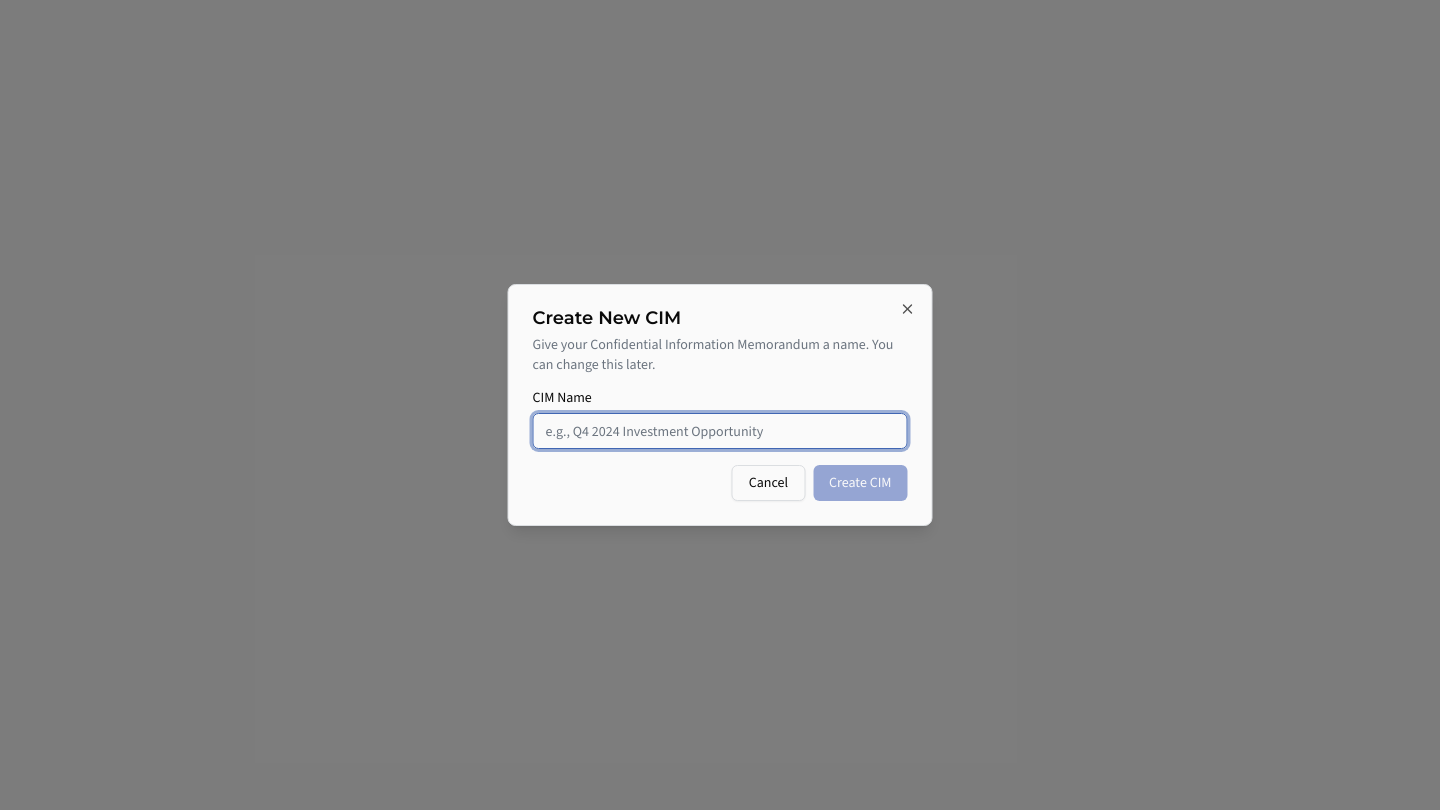
Test case: CreateCIMDialog › validation › should clear error when user starts typing
This screenshot has width=1440, height=810.
Type "AB" into the field labelled "CIM Name" at (720, 431), box [532,413,908,449]
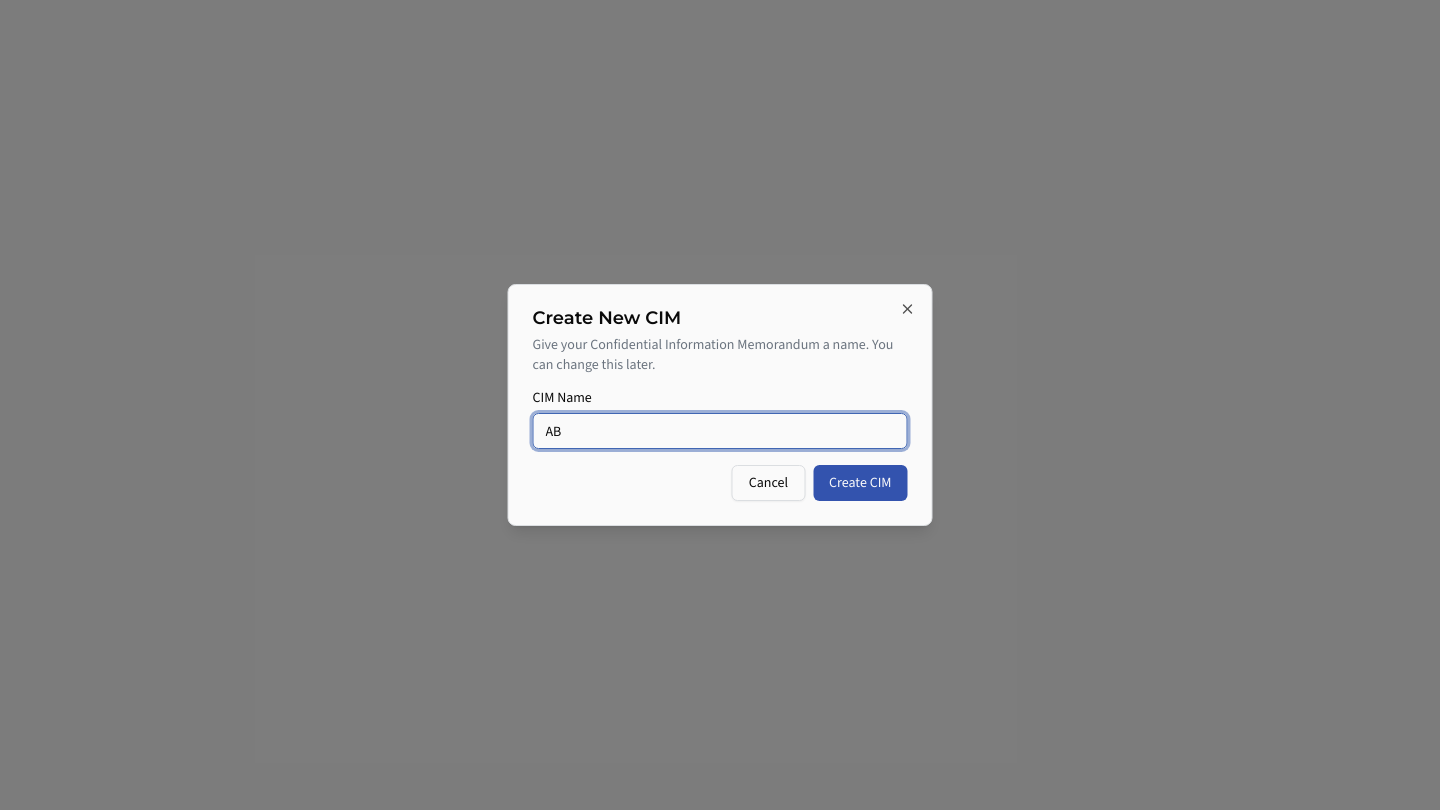
Click the button "Create CIM" at (860, 483), box [813,465,908,501]
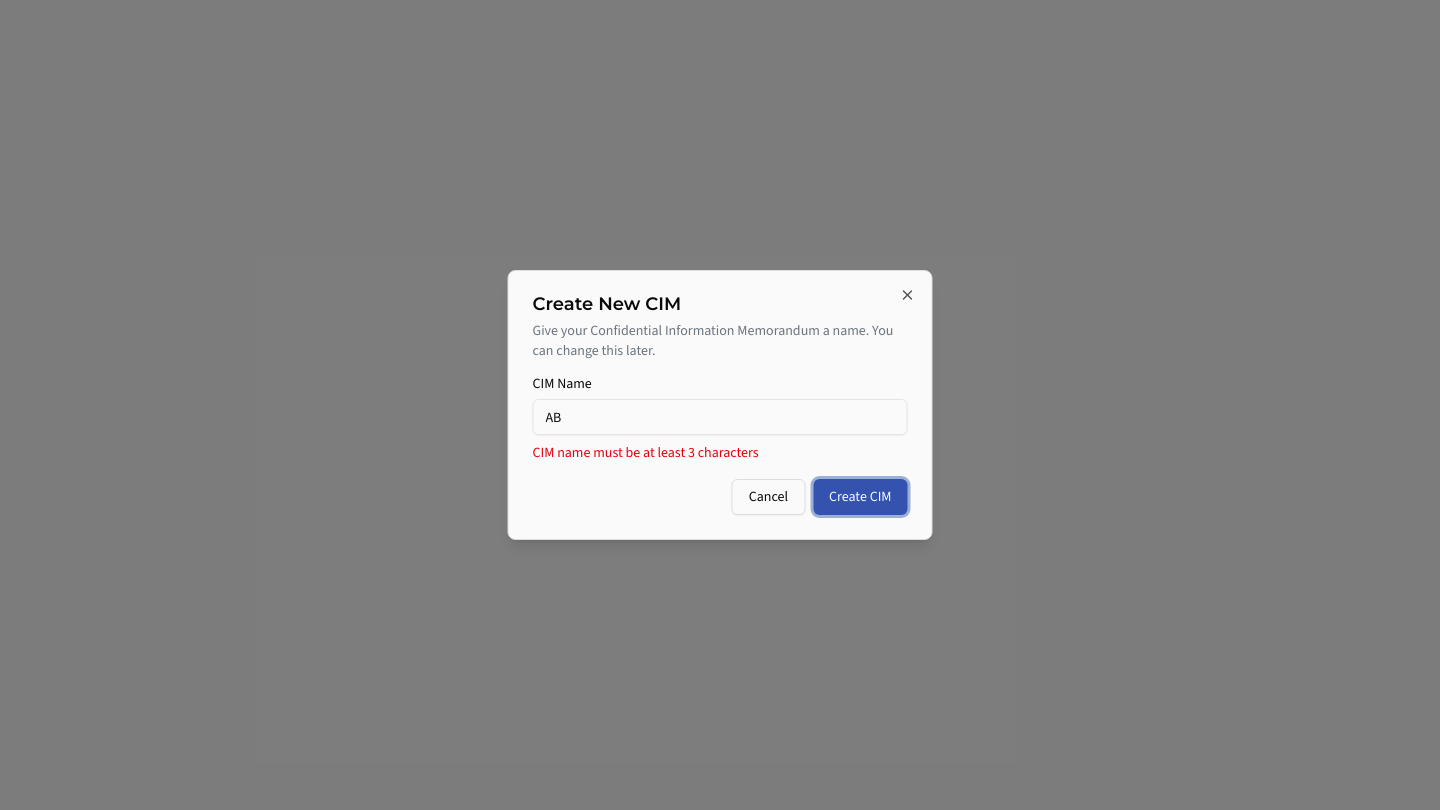
Expected: the text "CIM name must be at least 3 characters" is shown, [532,443,759,462]
Type "C" into the field labelled "CIM Name" at (720, 417), box [532,399,908,435]
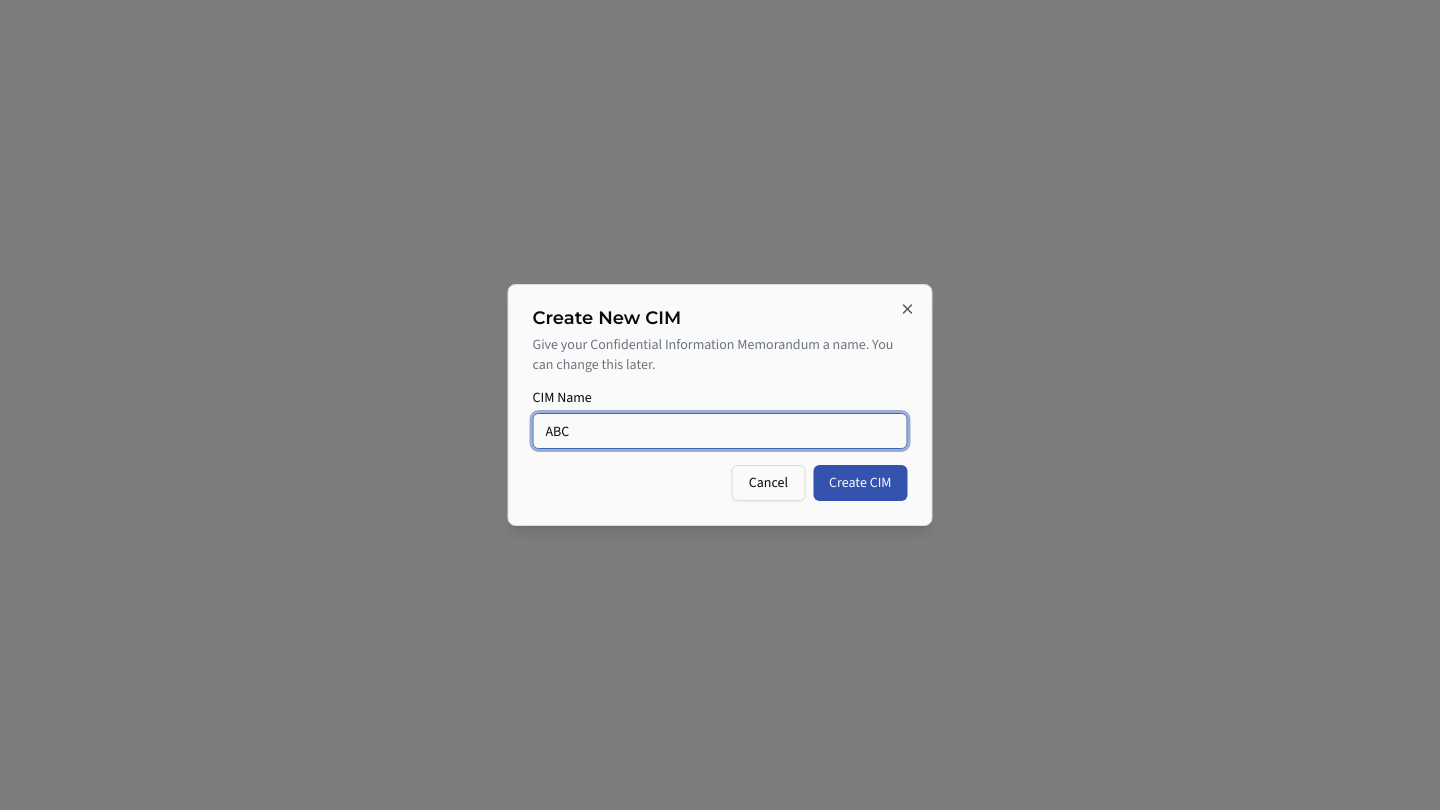
Expected: the text "CIM name must be at least 3 characters" is gone
